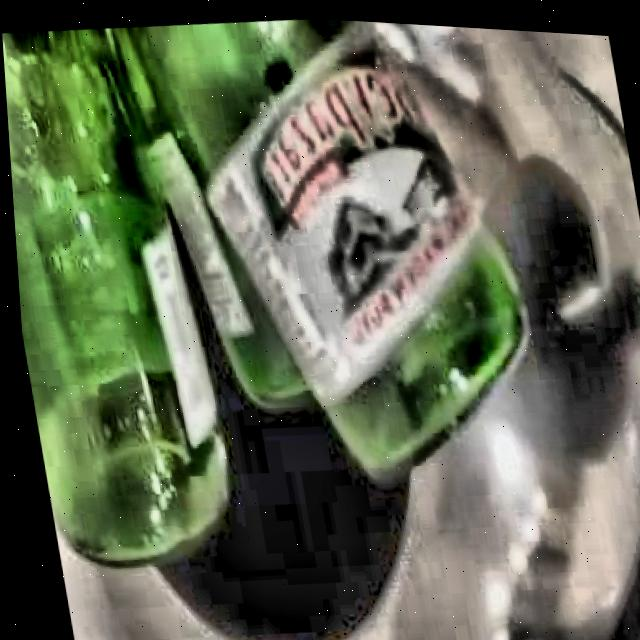glass: (2, 14, 518, 566)
